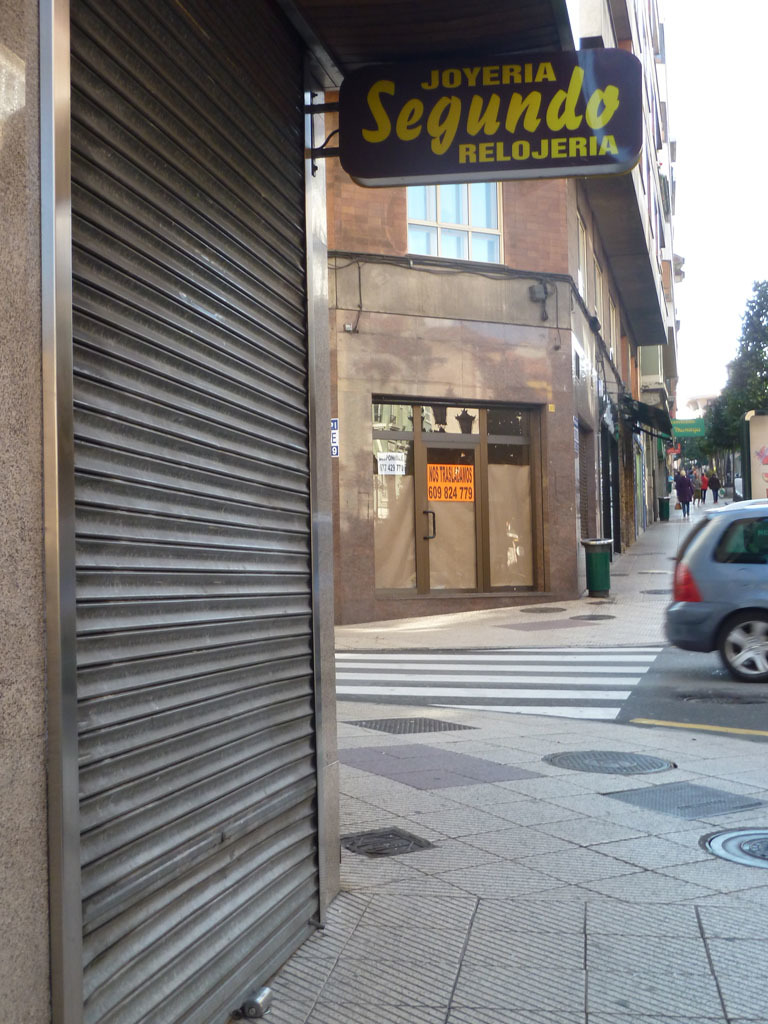Car: (669, 497, 767, 686)
